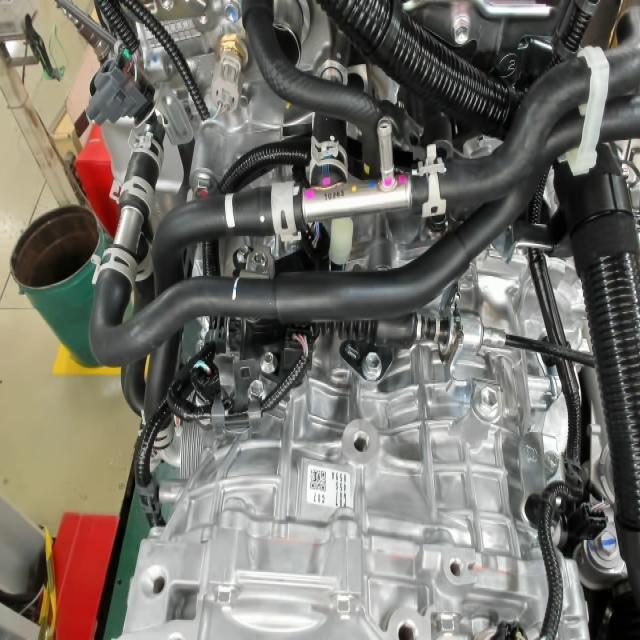Transaxele-C87-A27: (309, 488, 352, 512)
